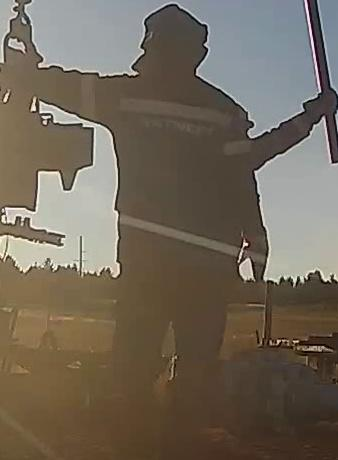gloves: (238, 230, 273, 286), (301, 86, 338, 126)
vest: (79, 70, 242, 291)
